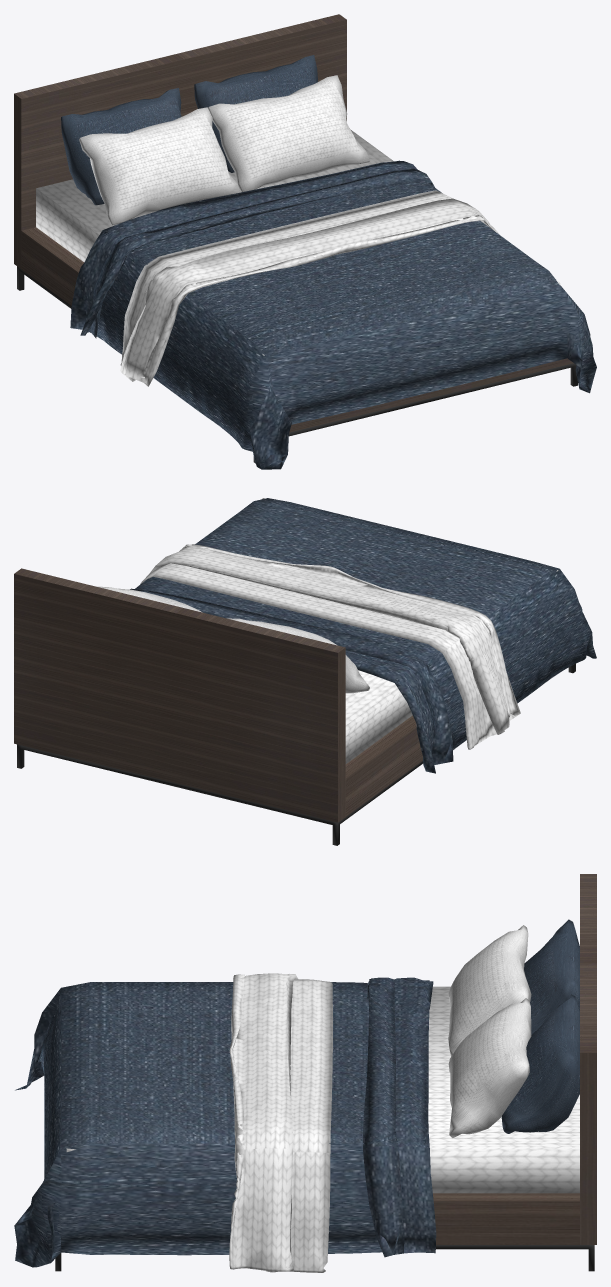
File: guest_room.glb
3 renders of one model, top to bottom at view 1: azimuth 30°, elevation 25°; view 2: azimuth 150°, elevation 25°; view 3: azimuth 270°, elevation 25°, orthographic. The views are drawn at different scales.
Parts seen in each view (by area): view 1: Bed 01, Plane.026, Plane.023, Plane.022, Plane.021, Mattress, Plane.027, Plane.024, Plane.020, Plane.025; view 2: Plane.026, Bed 01, Plane.023, Plane.027, Mattress, Plane.025, Plane.022, Plane.021; view 3: Bed 01, Plane.023, Mattress, Plane.021, Plane.027, Plane.020, Plane.026, Plane.022, Plane.024, Plane.025.
Boxes of the visible parts, left/top/right/bottom form: Bed 01: left=70, top=160, right=596, bottom=469; Plane.026: left=14, top=14, right=346, bottom=268; Plane.023: left=120, top=190, right=499, bottom=386; Plane.022: left=79, top=107, right=239, bottom=225; Plane.021: left=208, top=75, right=369, bottom=192; Mattress: left=36, top=129, right=560, bottom=355; Plane.027: left=21, top=227, right=573, bottom=432; Plane.024: left=61, top=88, right=181, bottom=205; Plane.020: left=194, top=55, right=317, bottom=172; Plane.025: left=17, top=266, right=577, bottom=463; Plane.026: left=14, top=568, right=345, bottom=822; Bed 01: left=130, top=498, right=596, bottom=773; Plane.023: left=140, top=544, right=520, bottom=749; Plane.027: left=345, top=715, right=422, bottom=816; Mattress: left=262, top=498, right=558, bottom=763; Plane.025: left=17, top=663, right=575, bottom=845; Plane.022: left=227, top=618, right=369, bottom=693; Plane.021: left=97, top=586, right=202, bottom=612; Bed 01: left=14, top=977, right=436, bottom=1267; Plane.023: left=229, top=973, right=332, bottom=1272; Mattress: left=66, top=986, right=579, bottom=1193; Plane.021: left=448, top=998, right=531, bottom=1138; Plane.027: left=433, top=1193, right=579, bottom=1244; Plane.020: left=501, top=994, right=579, bottom=1133; Plane.026: left=580, top=874, right=596, bottom=1244; Plane.022: left=448, top=925, right=531, bottom=1056; Plane.024: left=524, top=919, right=579, bottom=1034; Plane.025: left=55, top=1245, right=594, bottom=1271.
Size of the model in its own units: 2.1 by 1 by 2.41.
5 materials, 4 textured.
